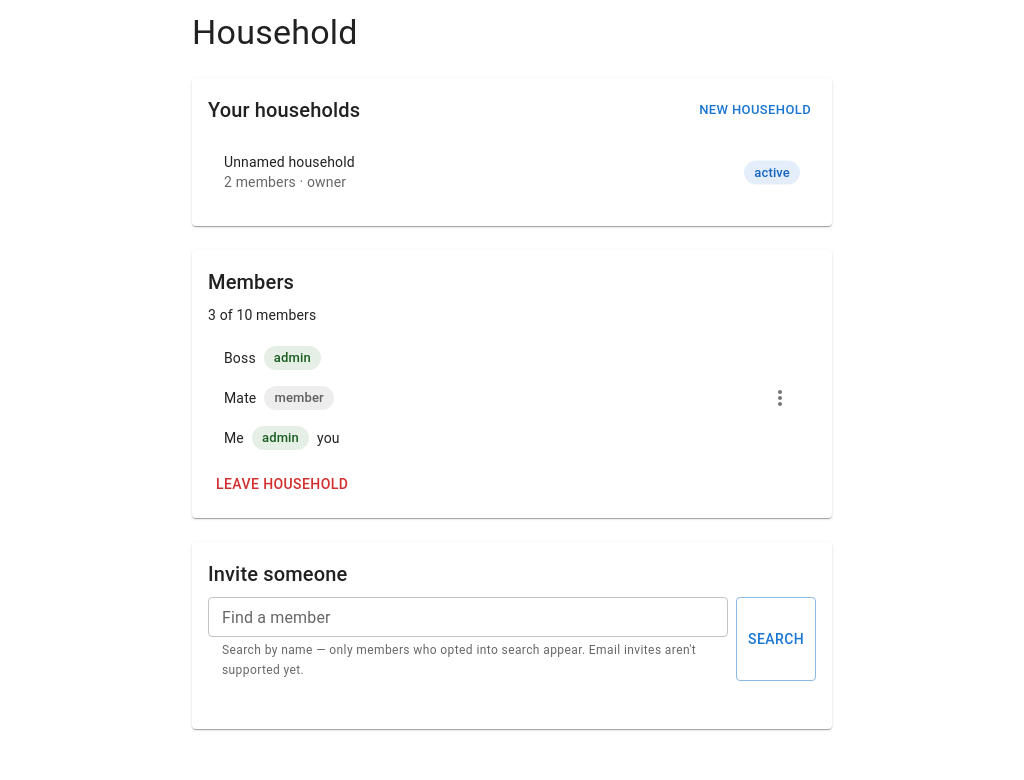
Test: household page › admin can remove members but not manage admins
Check: the text "Mate" is shown, box [224,390,256,406]
Click the button named "manage mate": point(780, 398) [760,378,800,418]
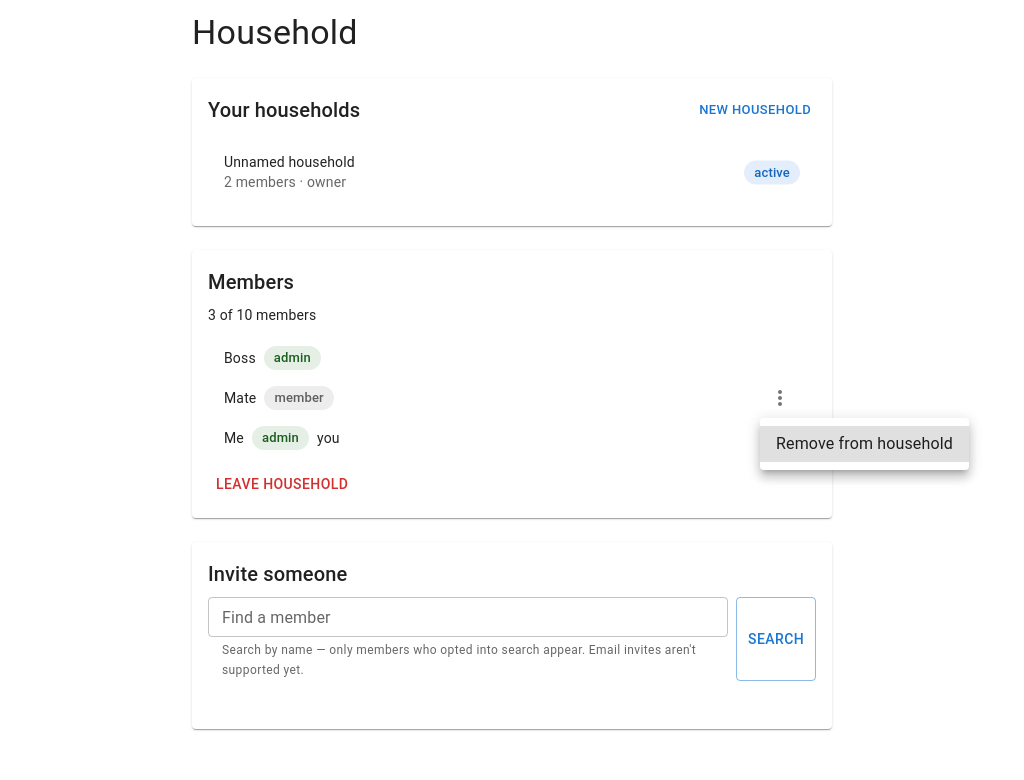
Check: the menu item "Remove from household" is shown, box [760,426,969,462]
